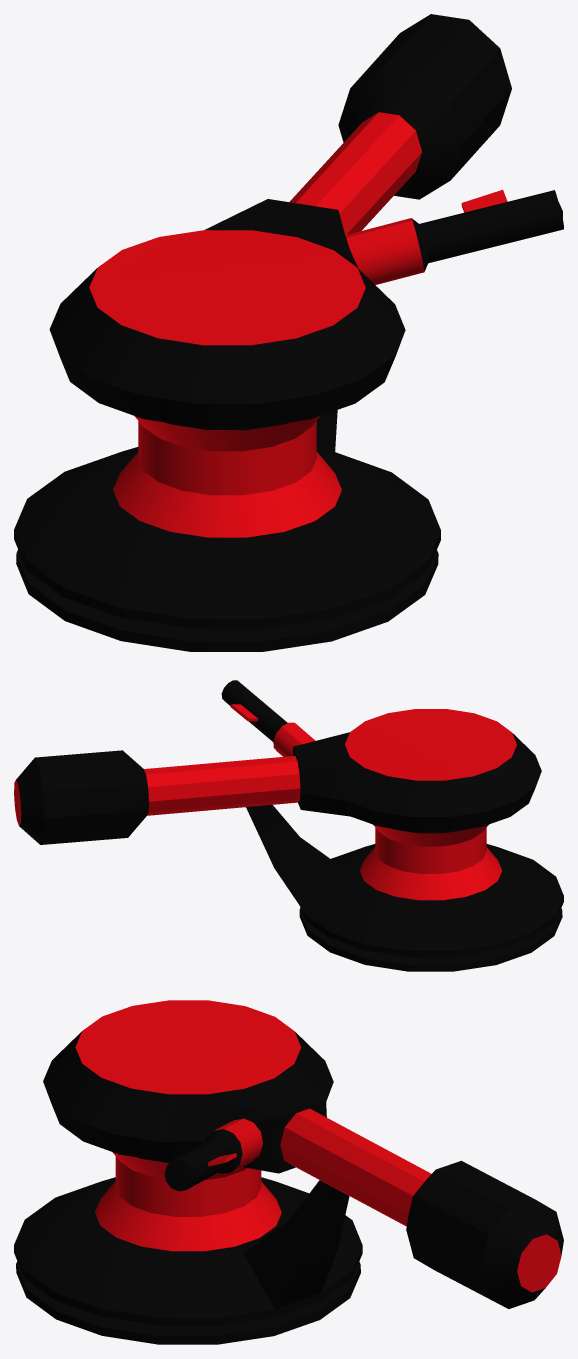
The model's file is ParçalıKırmızıMakine.fbx.
3 renders of one model, top to bottom at view 1: azimuth 30°, elevation 25°; view 2: azimuth 150°, elevation 25°; view 3: azimuth 270°, elevation 25°, orthographic. The views are drawn at different scales.
Visible parts, largest first — view 1: Zımpara2.001, Zımpara2.003, Zımpara2.004, Zımpara2.006, Zımpara2.008, Zımpara2.002, Zımpara2.007; view 2: Zımpara2.001, Zımpara2.003, Zımpara2.006, Zımpara2.004, Zımpara2.007, Zımpara2.005, Zımpara2.002, Zımpara2.008; view 3: Zımpara2.001, Zımpara2.003, Zımpara2.006, Zımpara2.004, Zımpara2.007, Zımpara2.005, Zımpara2.002, Zımpara2.008.
Boxes of the visible parts, bbox=[...] form: Zımpara2.001: bbox=[49, 199, 405, 427]; Zımpara2.003: bbox=[14, 447, 440, 628]; Zımpara2.004: bbox=[113, 416, 341, 537]; Zımpara2.006: bbox=[338, 14, 511, 199]; Zımpara2.008: bbox=[345, 189, 563, 284]; Zımpara2.002: bbox=[16, 549, 438, 651]; Zımpara2.007: bbox=[289, 112, 421, 234]; Zımpara2.001: bbox=[292, 709, 541, 831]; Zımpara2.003: bbox=[300, 844, 563, 956]; Zımpara2.006: bbox=[14, 750, 148, 844]; Zımpara2.004: bbox=[359, 824, 502, 900]; Zımpara2.007: bbox=[144, 756, 300, 815]; Zımpara2.005: bbox=[246, 805, 351, 914]; Zımpara2.002: bbox=[299, 908, 562, 971]; Zımpara2.008: bbox=[221, 680, 315, 756]; Zımpara2.001: bbox=[43, 1000, 333, 1173]; Zımpara2.003: bbox=[14, 1177, 362, 1325]; Zımpara2.006: bbox=[406, 1160, 563, 1308]; Zımpara2.004: bbox=[95, 1152, 281, 1251]; Zımpara2.007: bbox=[280, 1108, 431, 1226]; Zımpara2.005: bbox=[243, 1180, 349, 1308]; Zımpara2.002: bbox=[16, 1261, 360, 1344]; Zımpara2.008: bbox=[164, 1118, 262, 1191].
Bounding box in the file's own units: 0.8834 × 0.3856 × 0.7921.
